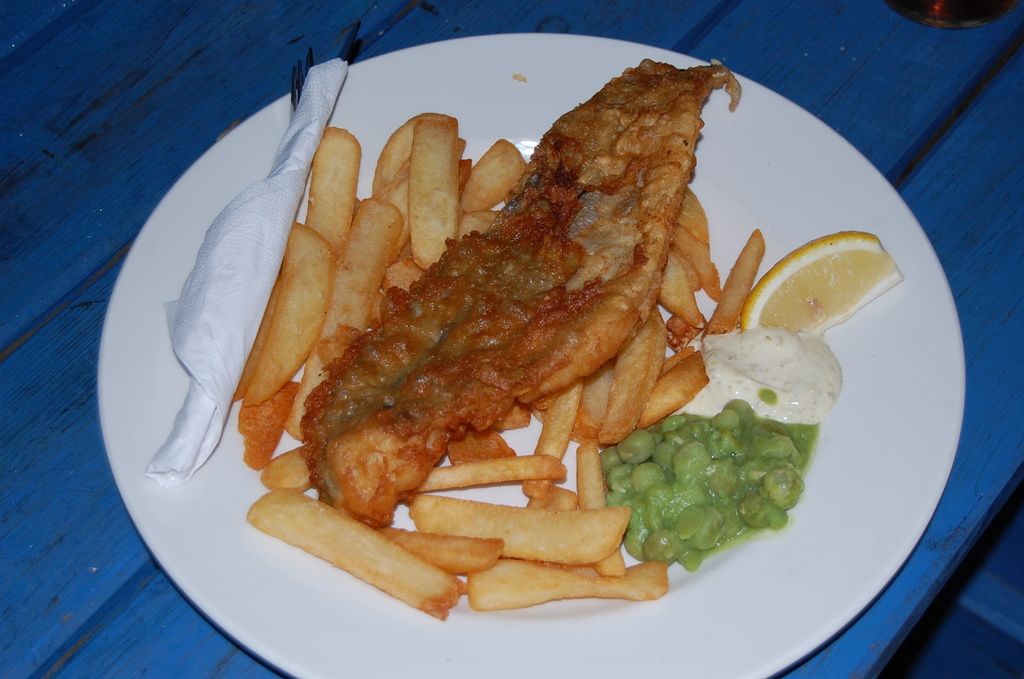French fries: (285, 197, 408, 444), (245, 490, 453, 623), (238, 214, 334, 413), (415, 498, 629, 568), (460, 550, 673, 611), (403, 115, 466, 273), (597, 308, 666, 452), (298, 131, 362, 256), (364, 524, 508, 578), (512, 367, 572, 495), (696, 228, 765, 339), (576, 429, 627, 577), (651, 240, 709, 354), (446, 140, 525, 222), (663, 187, 718, 299), (624, 351, 707, 422), (414, 456, 567, 491), (377, 110, 417, 208), (261, 432, 316, 494), (574, 353, 615, 434), (461, 210, 496, 242)
